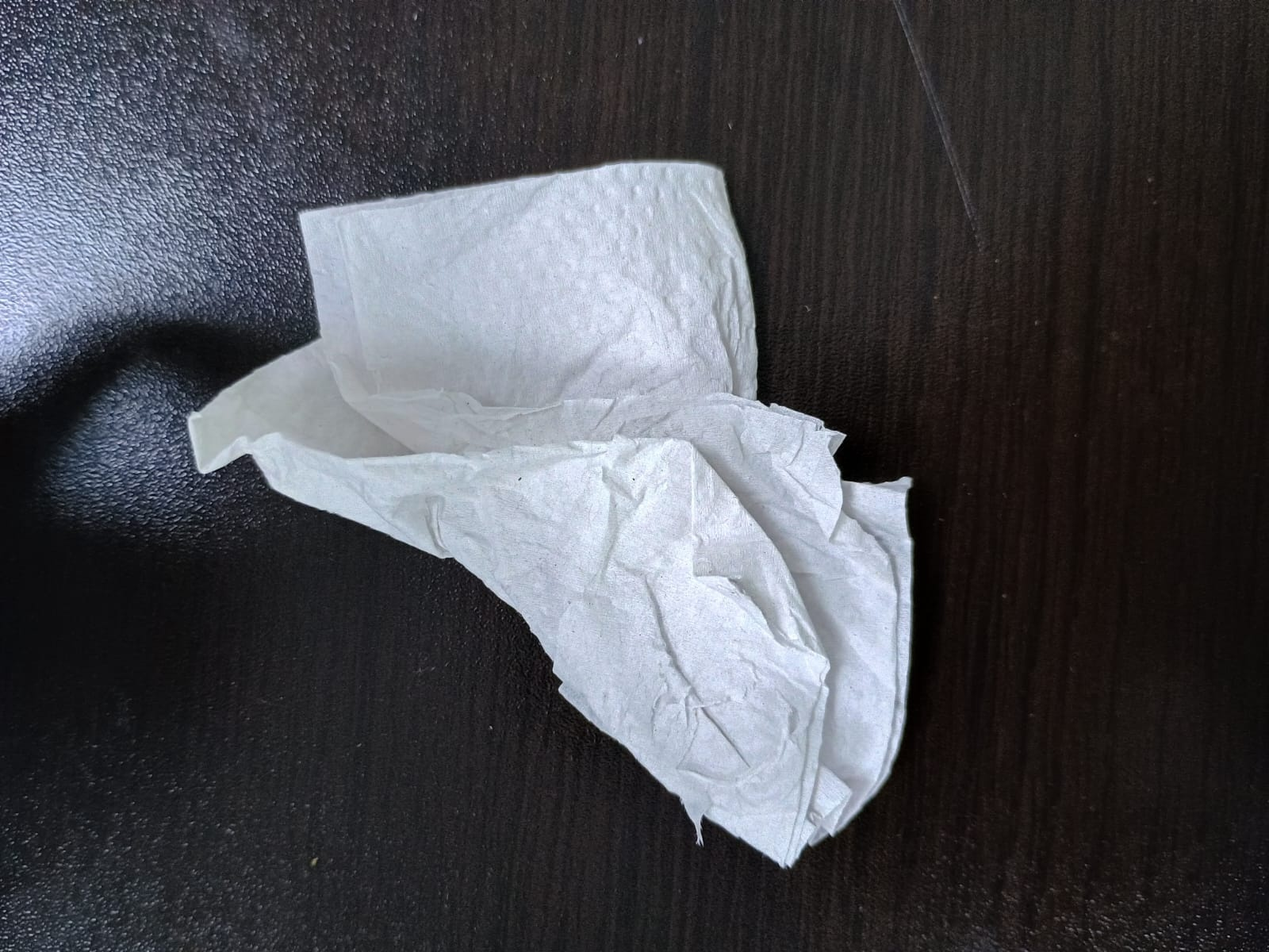Ordinario: (183, 161, 912, 868)
